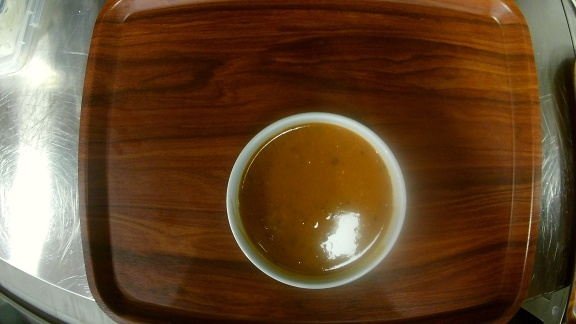ezogelin: (224, 111, 409, 291)
